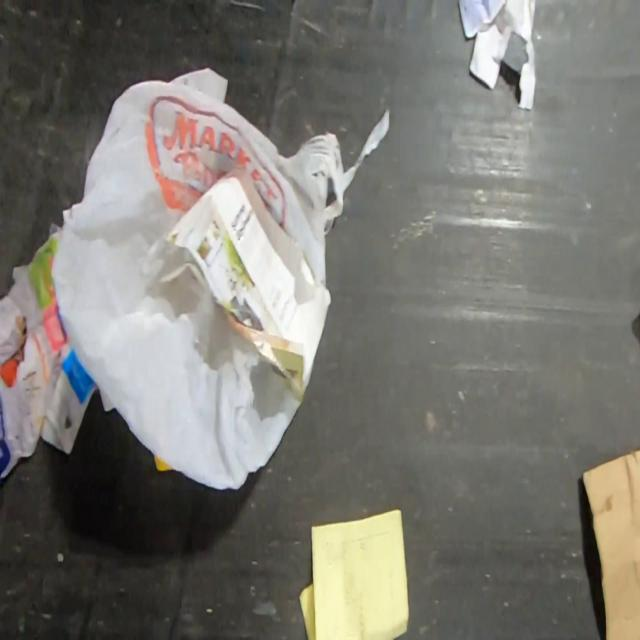cardboard: (580, 448, 640, 640)
soft_plastic: (49, 77, 391, 492)
